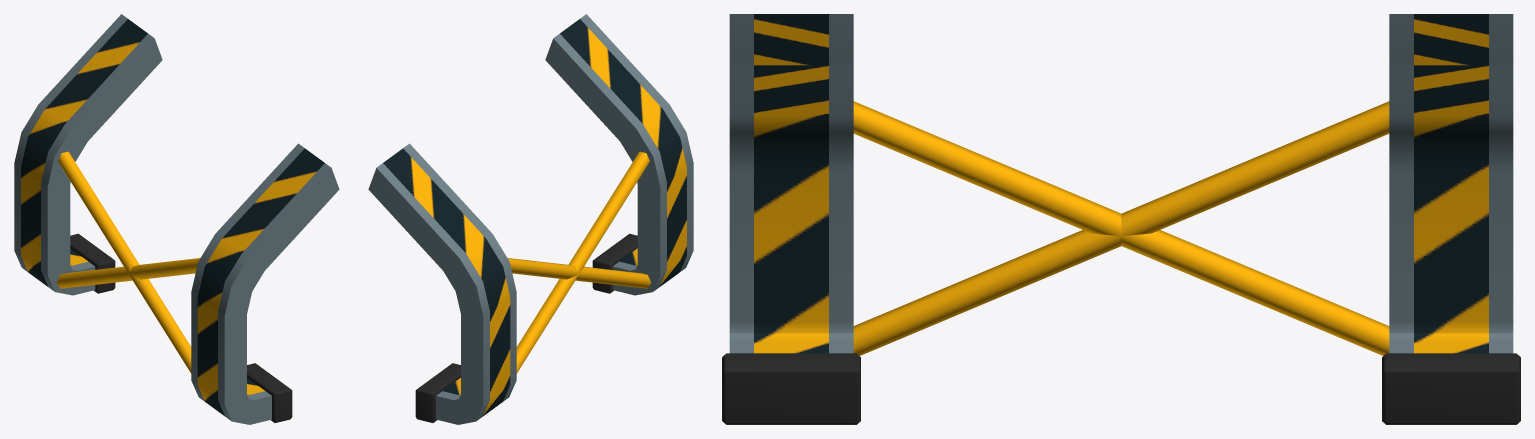
File: Cargo_drone_004_grab_004.fbx
The picture shows the model from 3 angles, left to right: view 1: azimuth 30°, elevation 25°; view 2: azimuth 150°, elevation 25°; view 3: azimuth 270°, elevation 25°; orthographic projection. The views are drawn at different scales.
Visible parts, largest first — view 1: Cargo_drone_004_grab_004; view 2: Cargo_drone_004_grab_004; view 3: Cargo_drone_004_grab_004.
Boxes of the visible parts, x1,y1,x2,y2 form: Cargo_drone_004_grab_004: [14, 14, 339, 424]; Cargo_drone_004_grab_004: [368, 14, 693, 424]; Cargo_drone_004_grab_004: [722, 14, 1520, 424].
Bounding box in the file's own units: 41.02 × 132 × 82.04.
